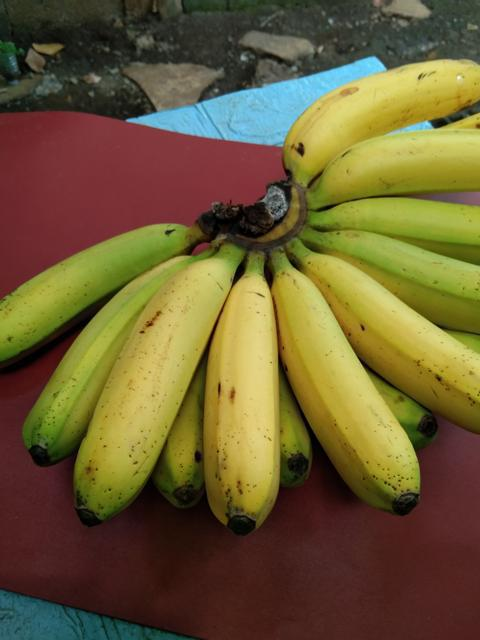freshripe: (66, 253, 219, 530), (267, 265, 435, 517), (263, 47, 479, 174), (190, 270, 289, 539), (313, 120, 479, 190)
